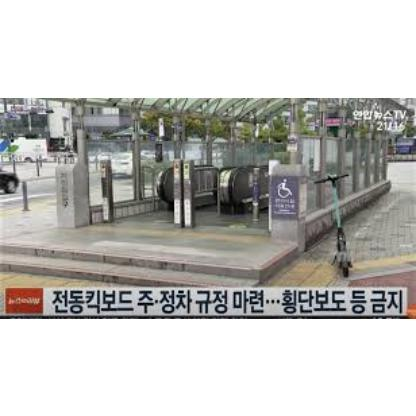bike: (313, 173, 354, 278)
car: (0, 159, 19, 196), (396, 137, 416, 155)
